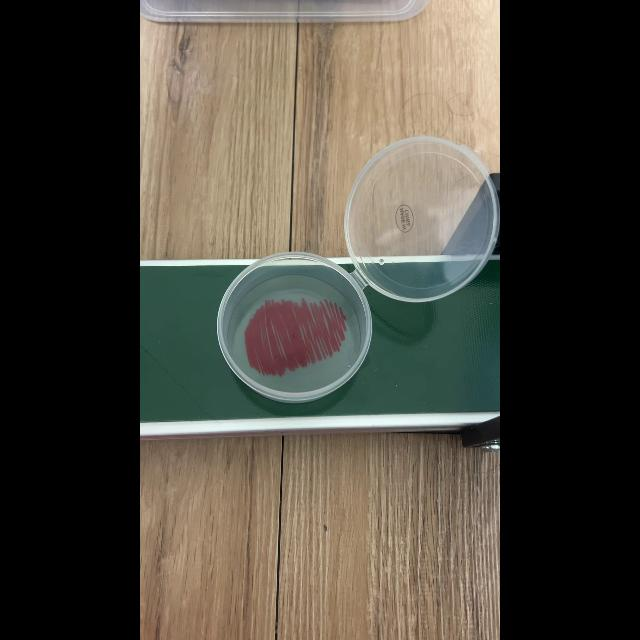dirty: (224, 269, 360, 395)
